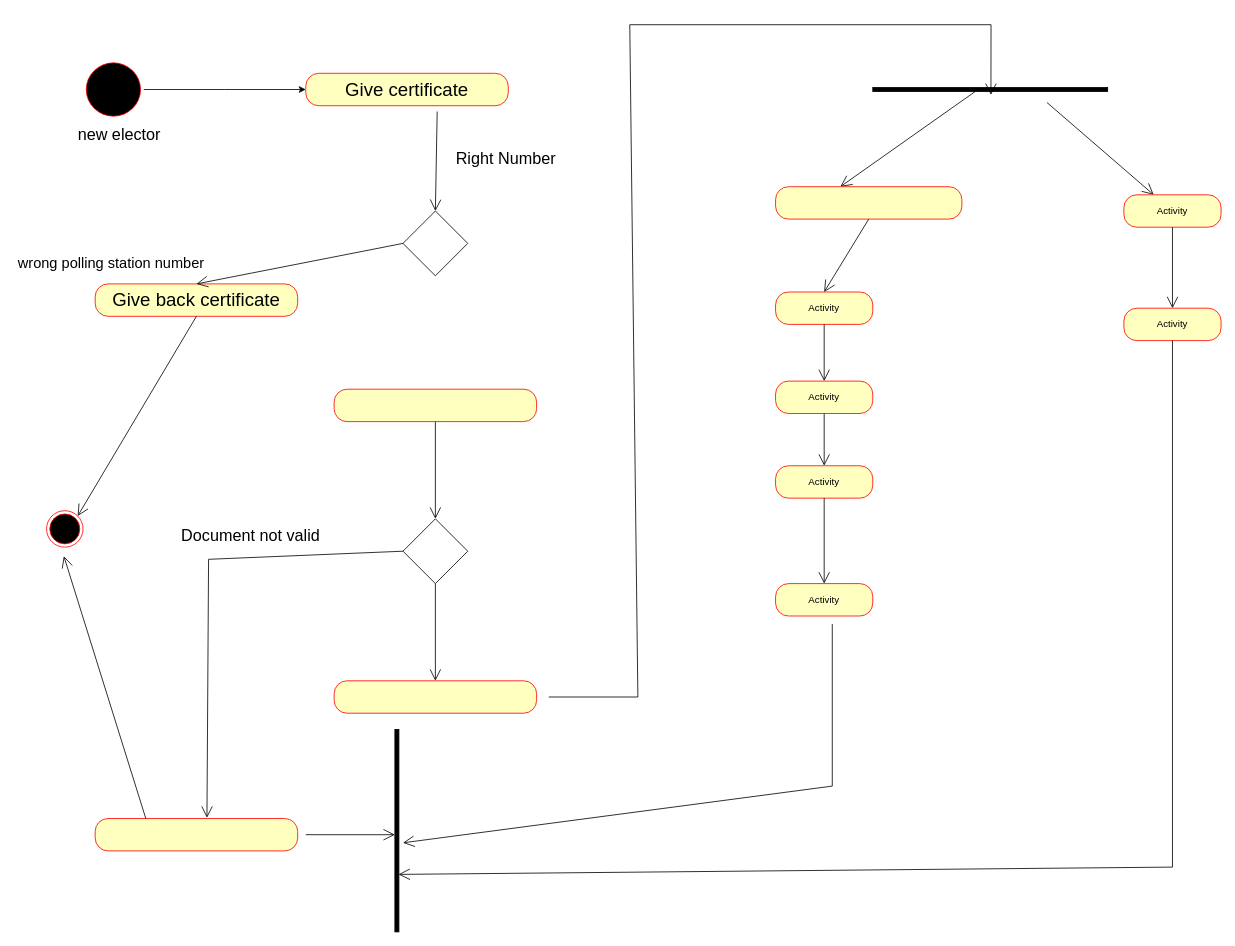
This 1235x946 diagram has some shape labels left out. Here are the shapes that lost their labels. From the top down, the centre of each, then its label:
At (x=868, y=202): "Assign freee cabin".
At (x=435, y=405): "Check Document".
At (x=435, y=696): "Give Ballot Paper".
At (x=196, y=834): "Give back Document".
